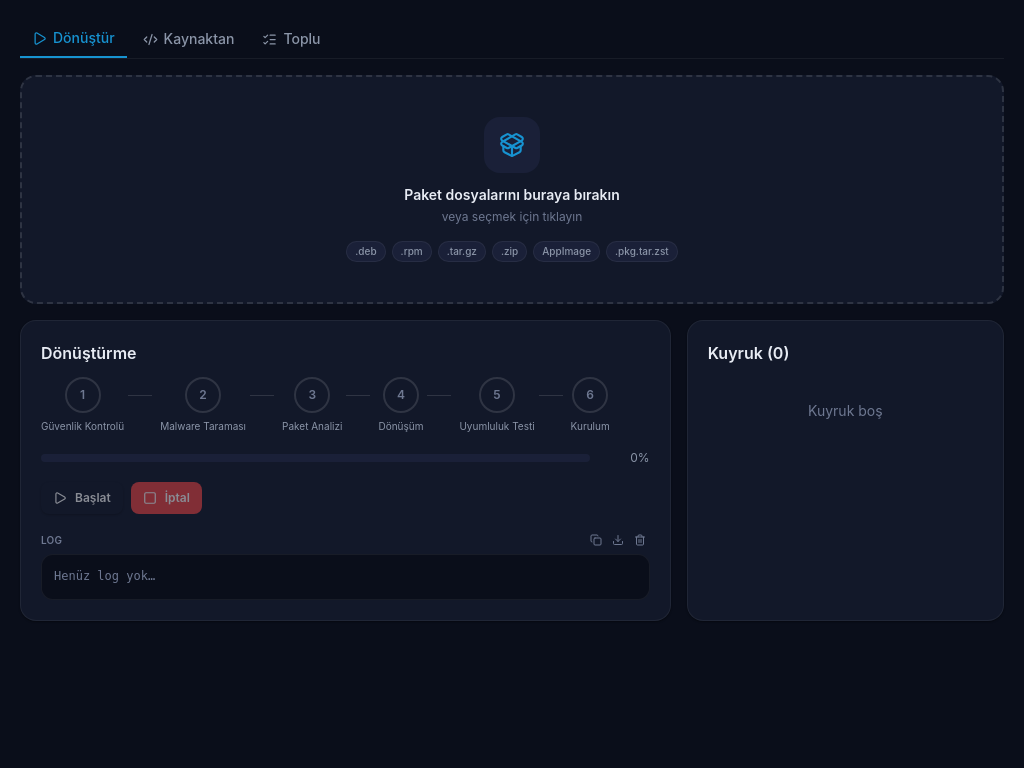
Test case: Convert page › adds files picked from the browse dialog and starts the pipeline
The image size is (1024, 768).
Click the button with aria-label "Paket bırakma alanı".
click(79, 190)  # box 20,75 -> 1004,304
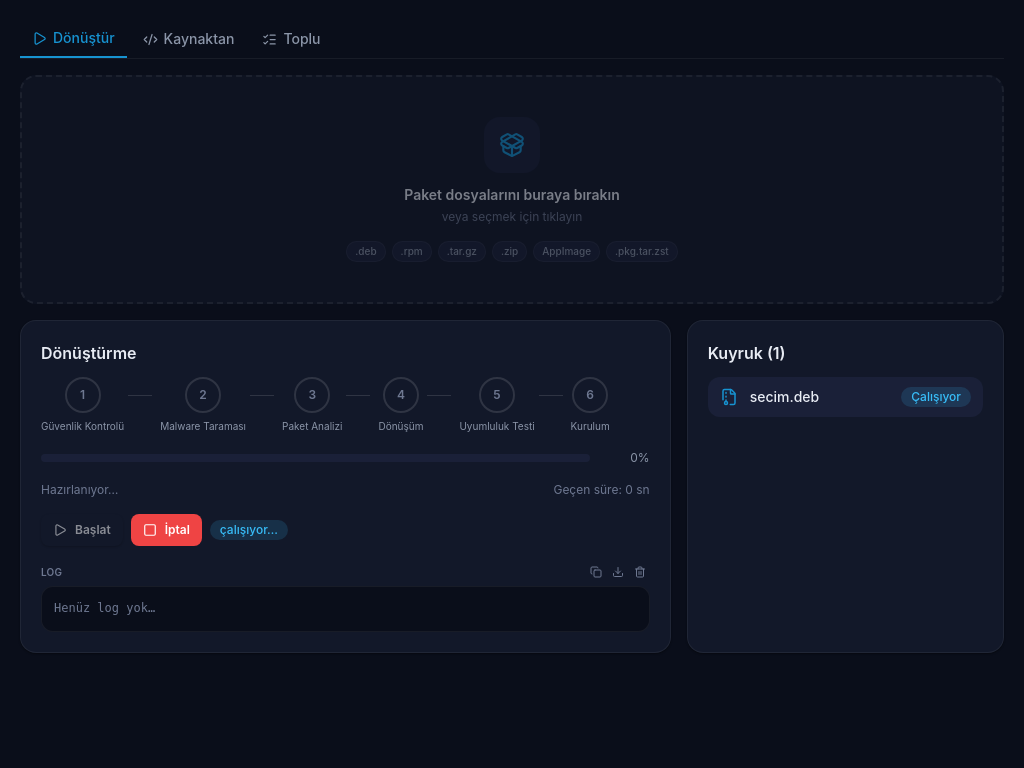
Expected: the text "secim.deb" is shown, 750,388 -> 819,405
